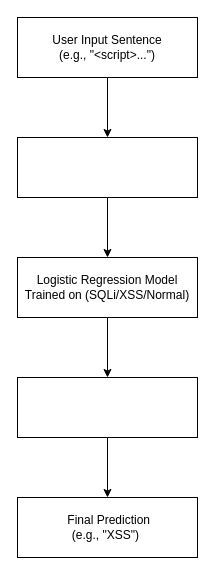
This 215x575 diagram has some shape labels left out. Here are the shapes that lost their labels. From the top down, the centre of each, then its label:
[107,167]: Text Vectorization: TF-IDF ngram_range=(1,2), max_features=10000
[107,407]: Output Probabilities Softmax applied to scores
